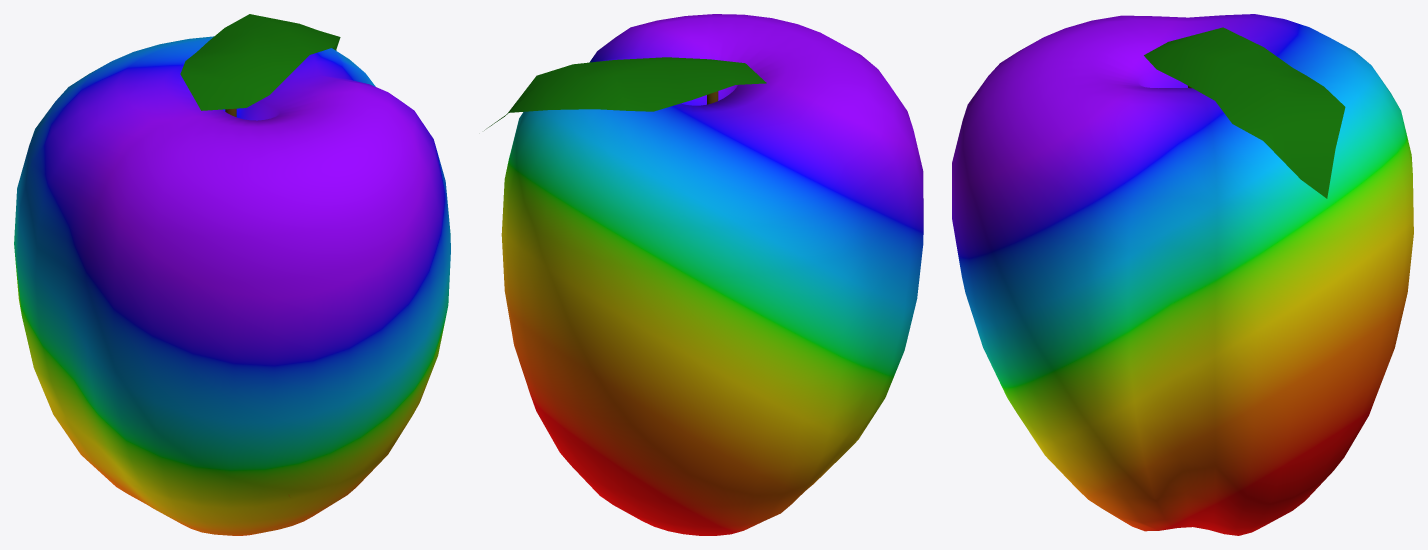
The model's file is RainbowPeach.fbx.
The picture shows the model from 3 angles, left to right: view 1: azimuth 30°, elevation 25°; view 2: azimuth 150°, elevation 25°; view 3: azimuth 270°, elevation 25°; orthographic projection. The views are drawn at different scales.
Visible parts, largest first — view 1: Peach, Leaf; view 2: Peach, Leaf; view 3: Peach, Leaf.
Part boxes in pixels (<box>): Peach: <box>14,36,450,535</box>; Leaf: <box>180,14,340,110</box>; Peach: <box>501,14,923,535</box>; Leaf: <box>484,57,766,130</box>; Peach: <box>952,14,1413,535</box>; Leaf: <box>1144,27,1345,198</box>.
Size of the model in its own units: 1.76 by 1.89 by 2.16.
